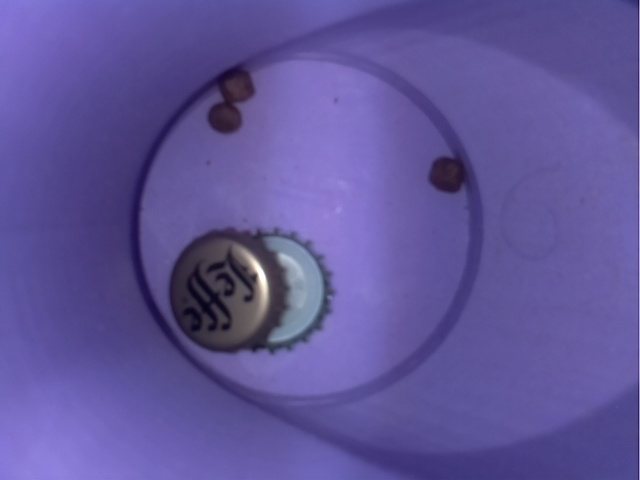capsule: (159, 225, 293, 376), (215, 228, 341, 356)
croquette: (410, 140, 482, 197), (207, 57, 262, 101), (202, 96, 257, 139)
